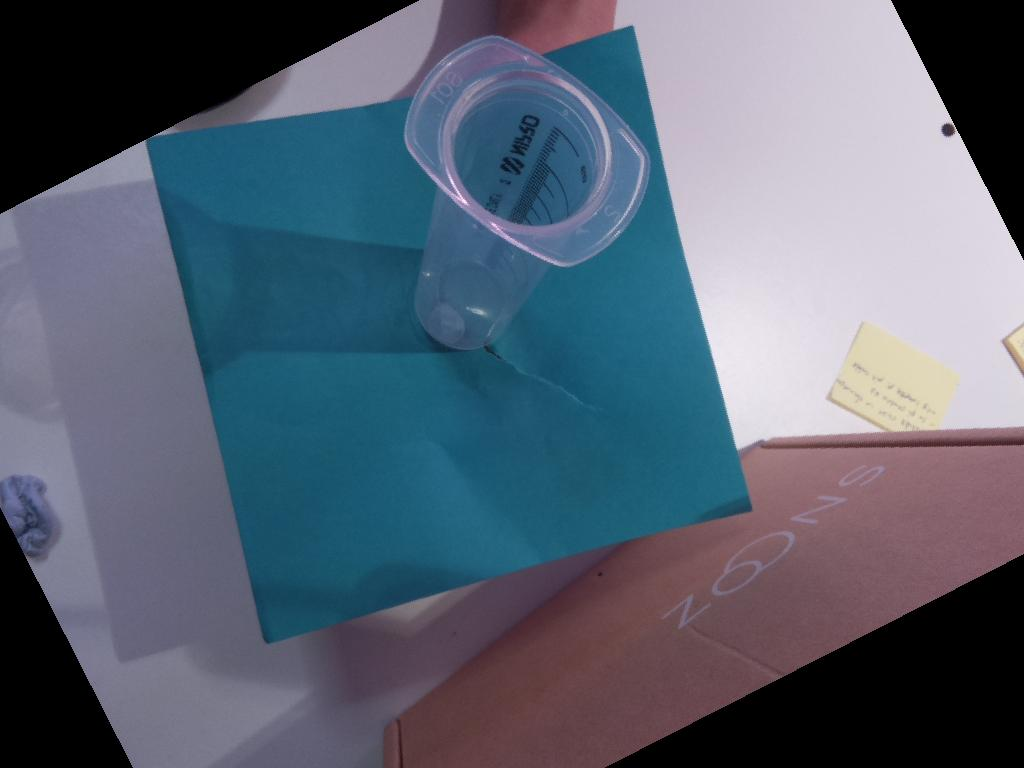clean: (403, 35, 653, 268)
